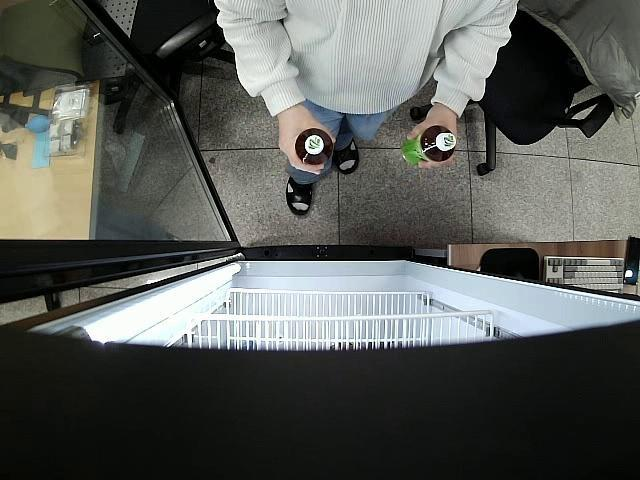19_17cha: (401, 124, 456, 167), (294, 128, 334, 167)
